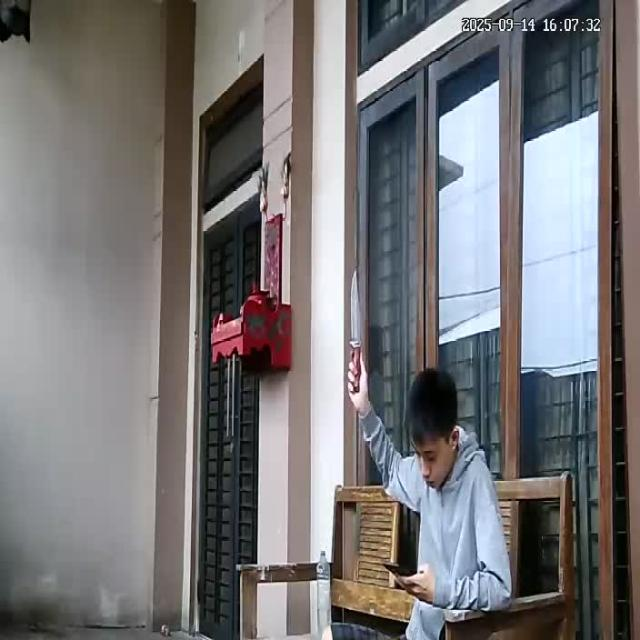senjata_tajam: (349, 267, 363, 358)
